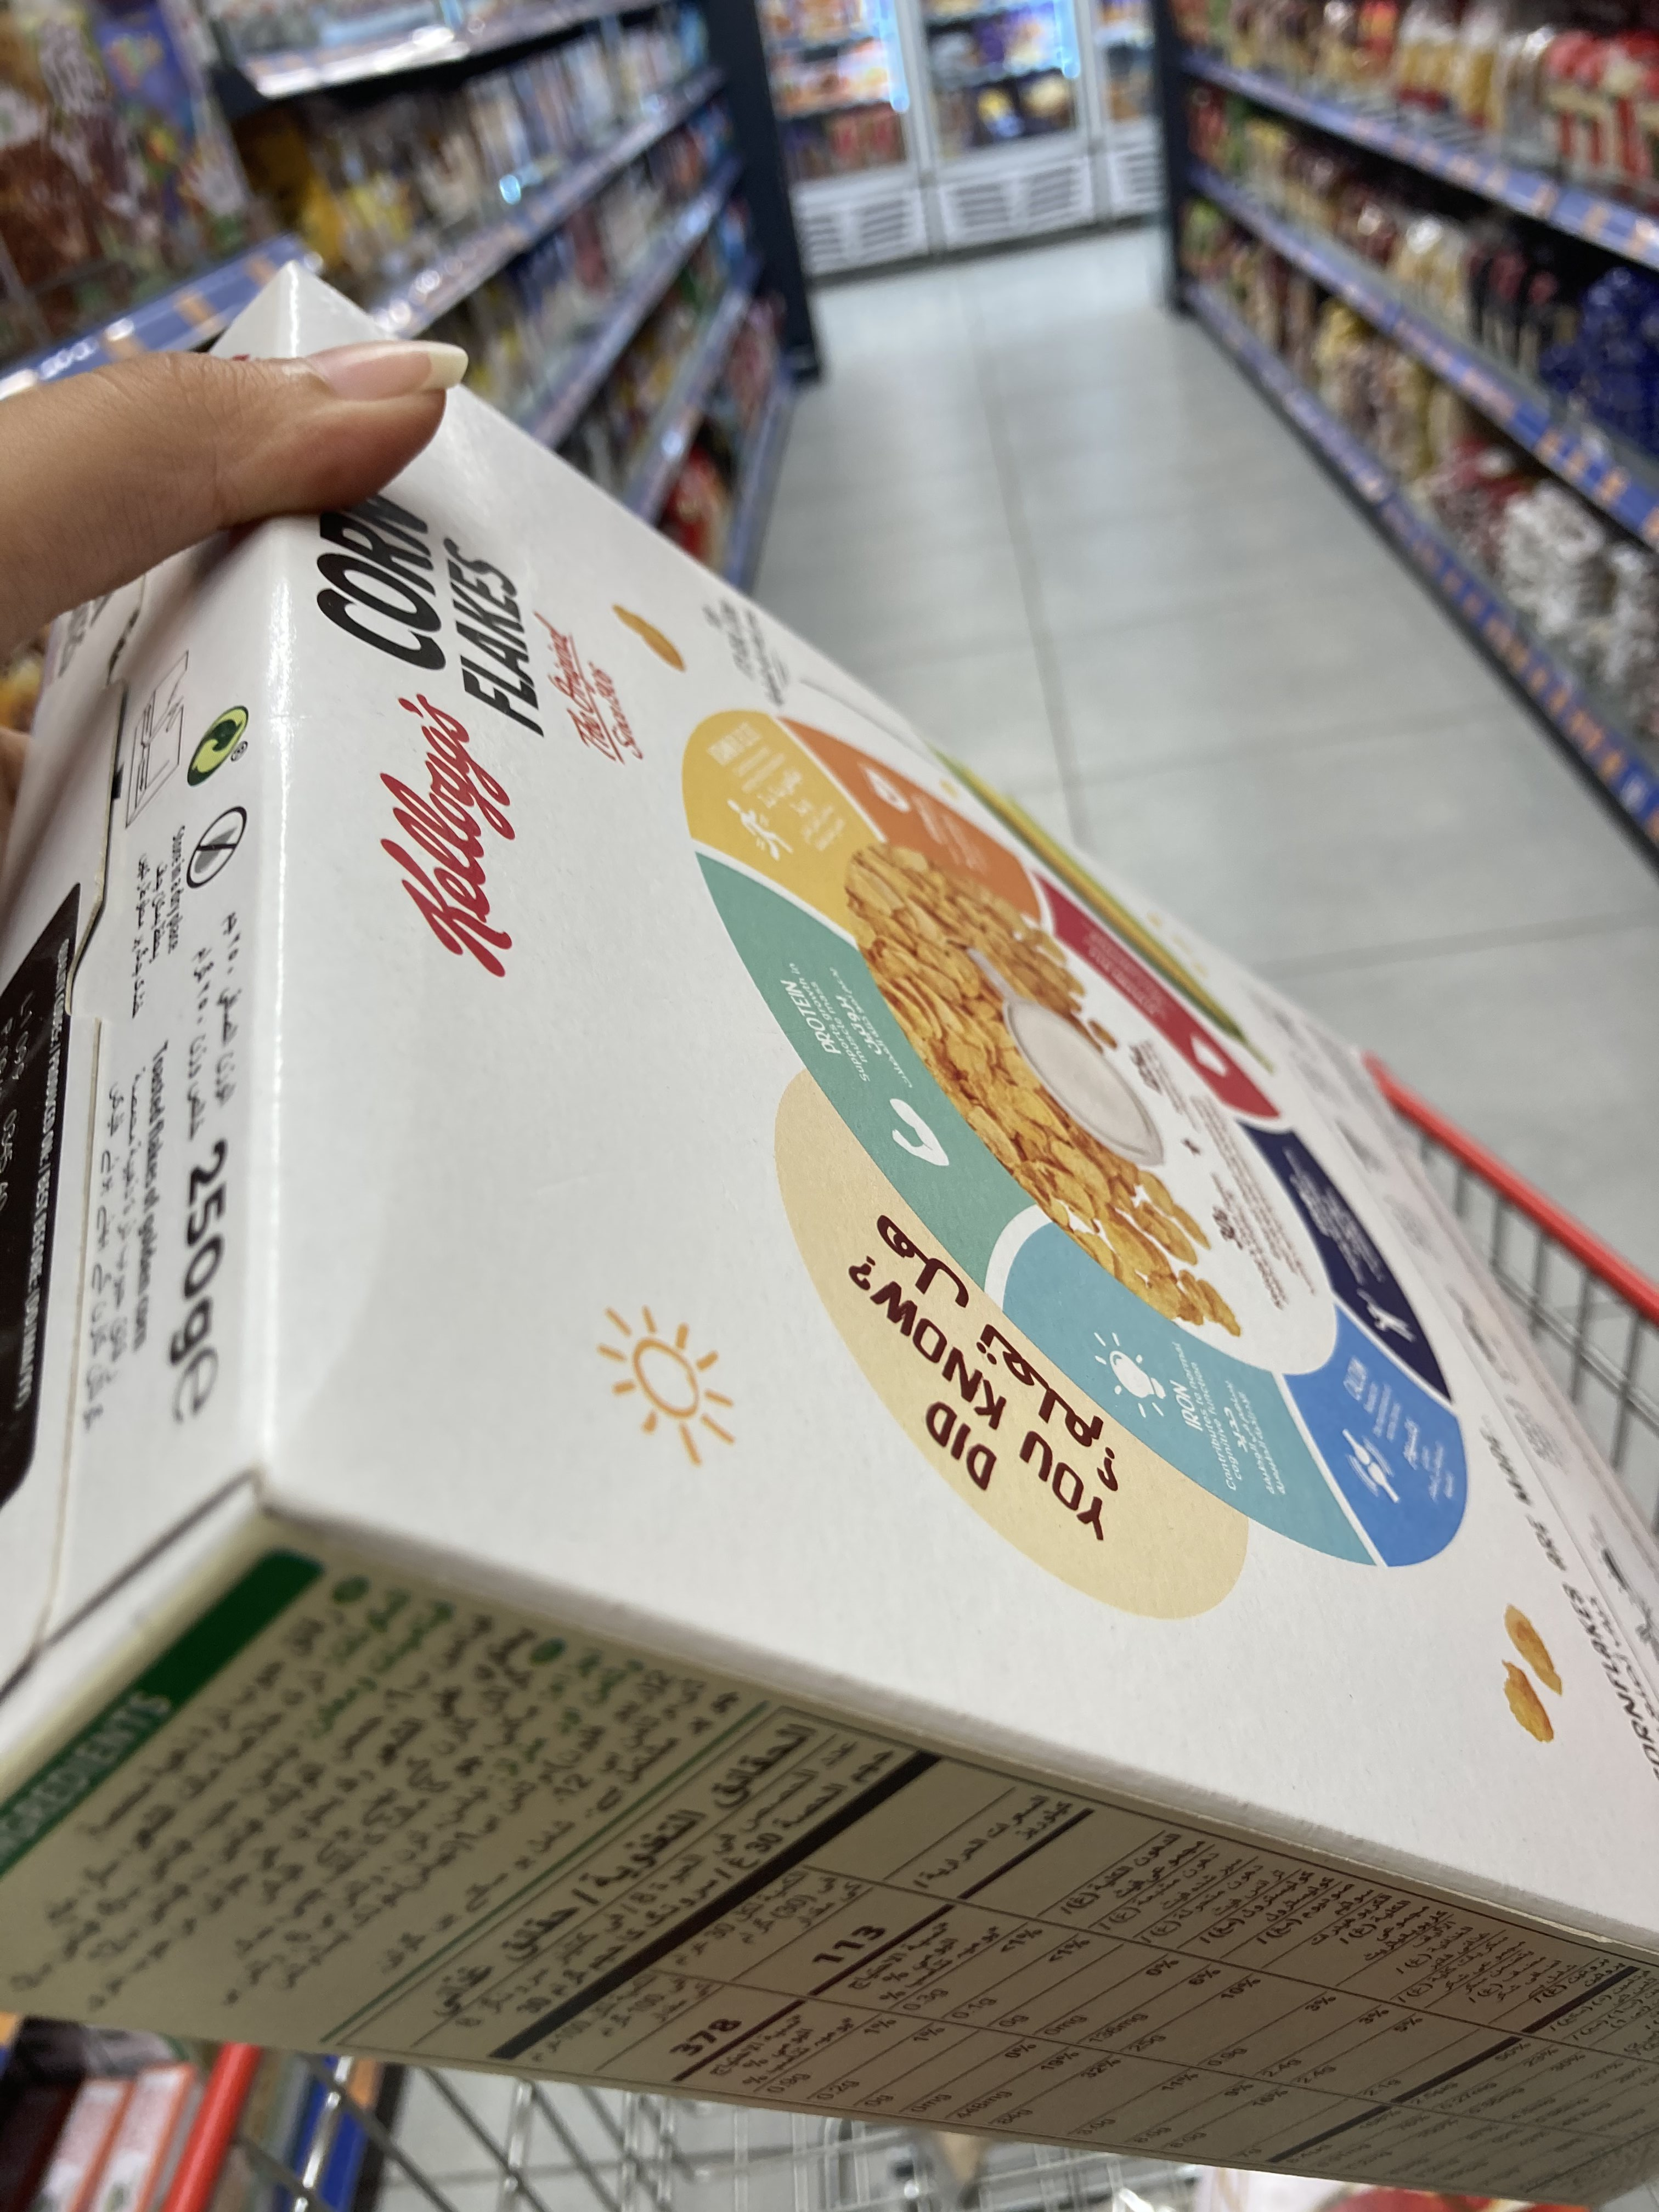Kellogg's Corn Flakes: (2, 256, 1659, 2168)
